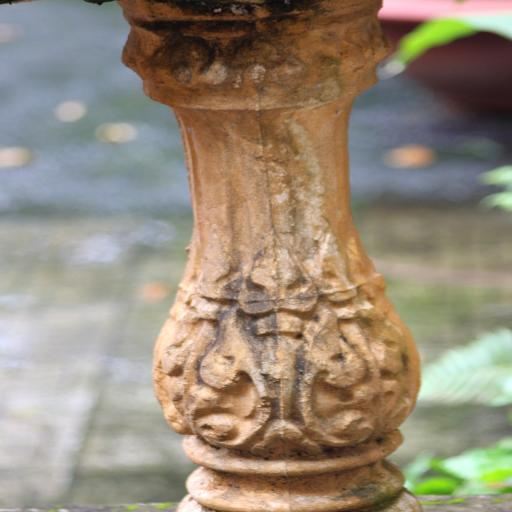la: (204, 258, 366, 454)
